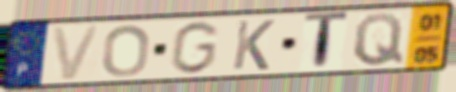G: (167, 20, 222, 76)
K: (230, 18, 277, 72)
O: (100, 23, 153, 79)
Q: (352, 11, 406, 68)
T: (302, 10, 351, 73)
V: (49, 23, 104, 83)
